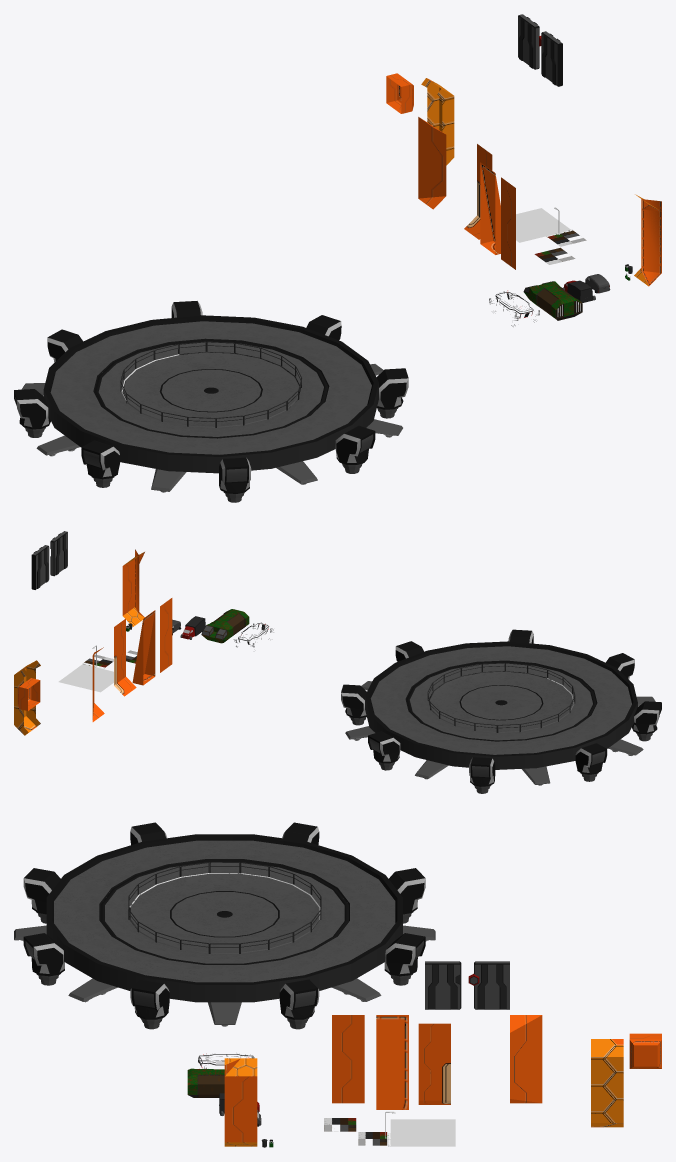
Rendered from CityPack.fbx.
3 renders of one model, top to bottom at view 1: azimuth 30°, elevation 25°; view 2: azimuth 150°, elevation 25°; view 3: azimuth 270°, elevation 25°, orthographic. The views are drawn at different scales.
Visible parts, largest first — view 1: PlatformOuter, PlatformCenter, Platform, WallExtrudeEnd, WallExtrudeTri, WallPanel1, WallExtrudeCorner, Cube, Railing, Wall, RoadTile, Cube.002 (+3 smaller); view 2: PlatformOuter, PlatformCenter, Platform, WallExtrudeTri, Cube, Railing, WallPanel1, RoadTile, WallExtrude.001, WallExtrude, Wall, Cube.002 (+2 smaller); view 3: PlatformOuter, PlatformCenter, Platform, WallExtrudeTri, WallExtrude, Wall, WallPanel1, WallExtrudeEnd, WallExtrude.001, RoadTile, Cube.002, Cube.003 (+6 smaller).
Part boxes in pixels (x1=…): PlatformOuter: x1=14, y1=301, x2=408, y2=502; PlatformCenter: x1=122, y1=352, x2=299, y2=427; Platform: x1=94, y1=340, x2=328, y2=438; WallExtrudeEnd: x1=418, y1=117, x2=446, y2=209; WallExtrudeTri: x1=480, y1=162, x2=500, y2=254; WallPanel1: x1=421, y1=78, x2=454, y2=165; WallExtrudeCorner: x1=641, y1=204, x2=661, y2=285; Cube: x1=523, y1=281, x2=582, y2=320; Railing: x1=120, y1=341, x2=301, y2=427; Wall: x1=501, y1=177, x2=515, y2=269; RoadTile: x1=516, y1=208, x2=570, y2=242; Cube.002: x1=518, y1=14, x2=541, y2=69; PlatformOuter: x1=341, y1=629, x2=661, y2=793; PlatformCenter: x1=430, y1=671, x2=573, y2=732; Platform: x1=406, y1=661, x2=596, y2=741; WallExtrudeTri: x1=132, y1=610, x2=155, y2=685; Cube: x1=201, y1=609, x2=249, y2=643; Railing: x1=427, y1=663, x2=575, y2=732; WallPanel1: x1=14, y1=660, x2=40, y2=735; RoadTile: x1=58, y1=664, x2=113, y2=692; WallExtrude.001: x1=114, y1=618, x2=136, y2=696; WallExtrude: x1=122, y1=552, x2=144, y2=626; Wall: x1=160, y1=598, x2=172, y2=672; Cube.002: x1=31, y1=545, x2=49, y2=589; PlatformOuter: x1=23, y1=822, x2=425, y2=1029; PlatformCenter: x1=130, y1=873, x2=319, y2=953; Platform: x1=100, y1=860, x2=348, y2=964; WallExtrudeTri: x1=376, y1=1015, x2=408, y2=1109; WallExtrude: x1=224, y1=1058, x2=257, y2=1146; Wall: x1=332, y1=1015, x2=364, y2=1103; WallPanel1: x1=591, y1=1039, x2=623, y2=1127; WallExtrudeEnd: x1=510, y1=1015, x2=542, y2=1103; WallExtrude.001: x1=418, y1=1023, x2=450, y2=1104; RoadTile: x1=390, y1=1119, x2=455, y2=1146; Cube.002: x1=468, y1=961, x2=509, y2=1009; Cube.003: x1=425, y1=961, x2=461, y2=1009.
Size of the model in its own units: 200 by 237 by 85.31.
